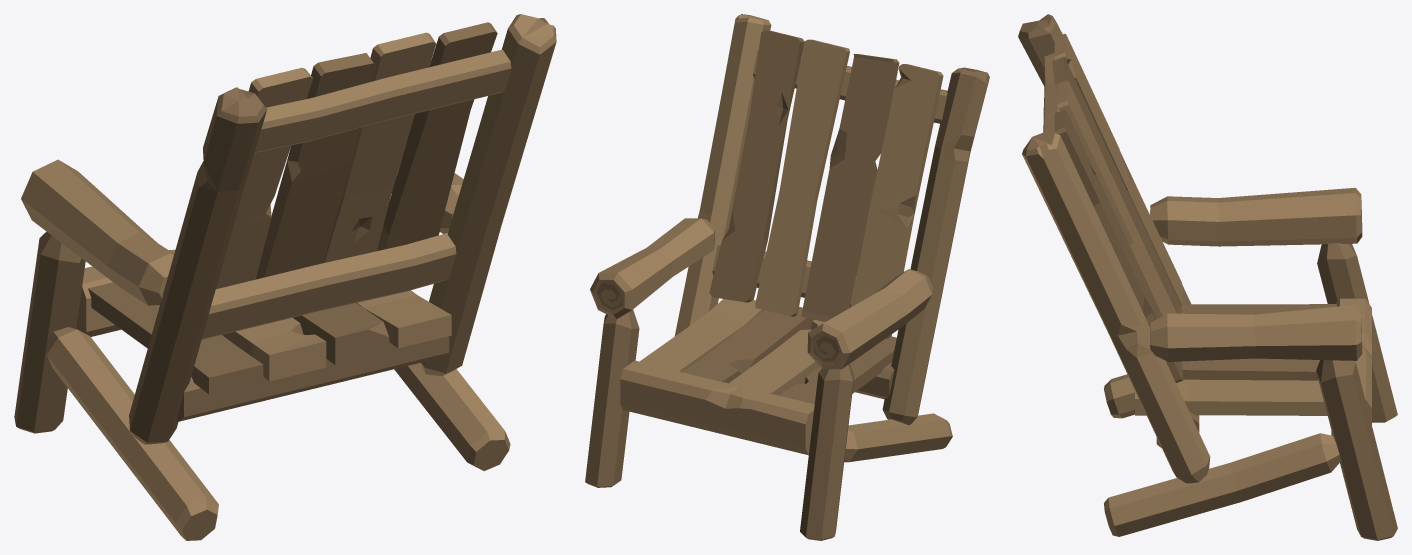
Rendered from alp_Prop_Chair_Log_01.glb.
3 views of the same model, side by side, from view 1: azimuth 30°, elevation 25°; view 2: azimuth 150°, elevation 25°; view 3: azimuth 270°, elevation 25° (orthographic). The views are drawn at different scales.
Parts seen in each view (by area): view 1: SM_Prop_Chair_Log_01; view 2: SM_Prop_Chair_Log_01; view 3: SM_Prop_Chair_Log_01.
Part boxes in pixels (bbox=[...]): SM_Prop_Chair_Log_01: bbox=[14, 14, 556, 540]; SM_Prop_Chair_Log_01: bbox=[585, 14, 989, 540]; SM_Prop_Chair_Log_01: bbox=[1018, 14, 1397, 540].
Size of the model in its own units: 0.8911 by 1.18 by 1.01.
1 material, 1 textured.
